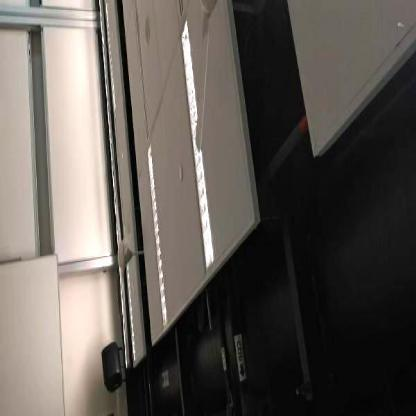light_on: (176, 13, 218, 262), (144, 132, 172, 342), (123, 259, 137, 367)
